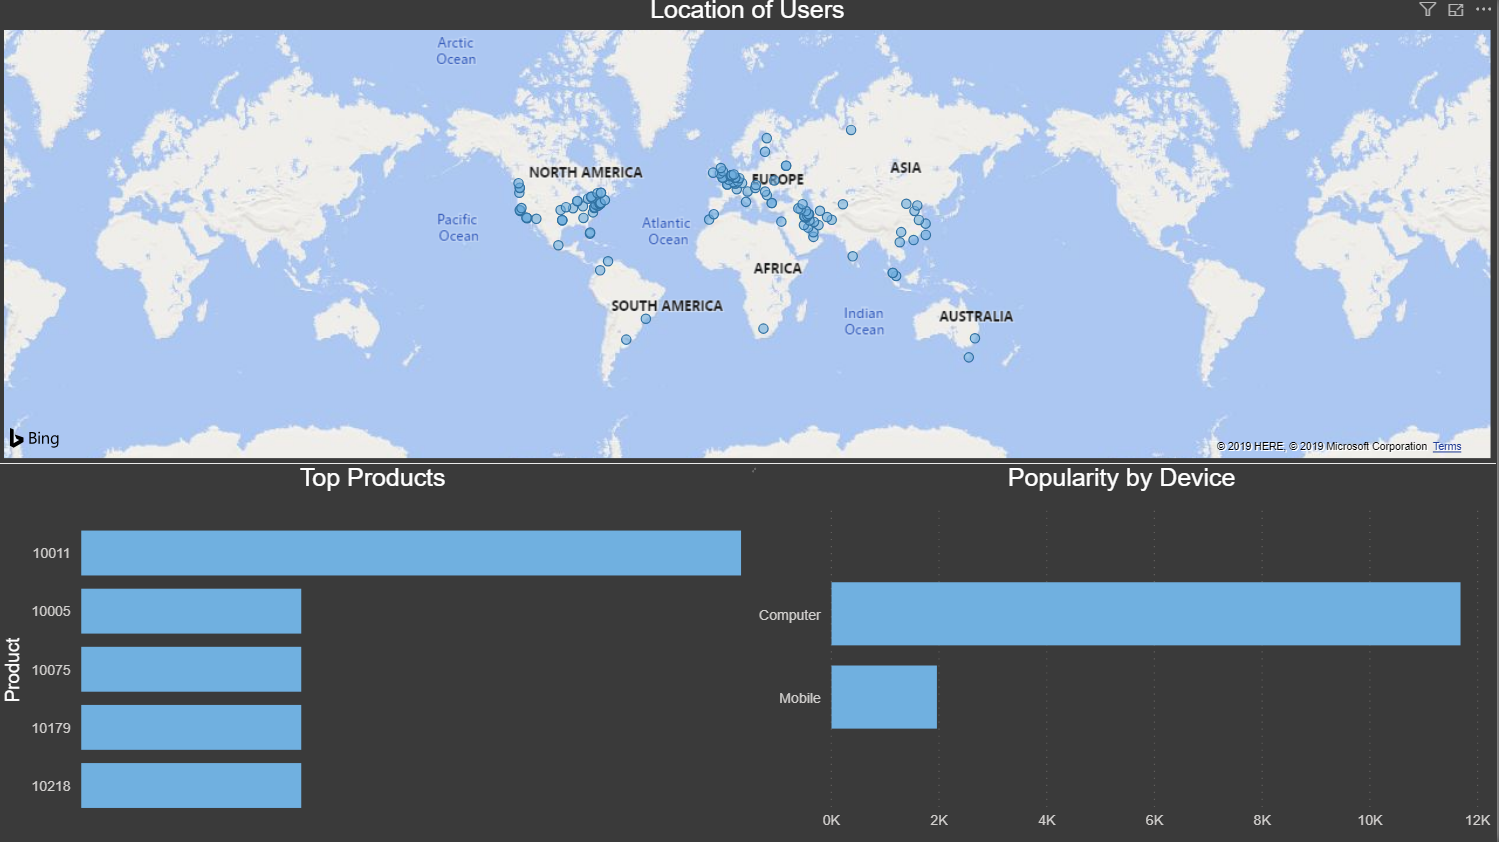

Layout of this report page (visuals, bound fields, positions):
{"tool":"powerbi","page":{"name":"Marketing Dashboard","canvas":[1280,720],"ordinal":1},"visuals":[{"type":"barChart","title":"Top Products","fields":{"Category":["VIZ_7.PROD_ID"],"Y":["Sum(VIZ_7.COUNTER)"]},"box":[0,399.8,640,320],"z":0},{"type":"map","title":"Location of Users","fields":{"Y":["VIZ_5 (2).LAT"],"X":["VIZ_5 (2).LONG"]},"box":[0,0,1280,399.8],"z":1000},{"type":"barChart","title":"Popularity by Device","fields":{"Y":["Sum(VIZ_8.counter)"],"Category":["VIZ_8.DEVICE_CATEGORY"]},"box":[640,400,640,320],"z":2000}]}

Visuals, with their boxes in screenshot pixels (x1, y1, x2, y2), scaled from the page's 1280x720 canvas onto the 1499x842 screenshot:
"Top Products" barChart: [left=0, top=468, right=750, bottom=841]
"Location of Users" map: [left=0, top=0, right=1498, bottom=468]
"Popularity by Device" barChart: [left=750, top=468, right=1498, bottom=841]
